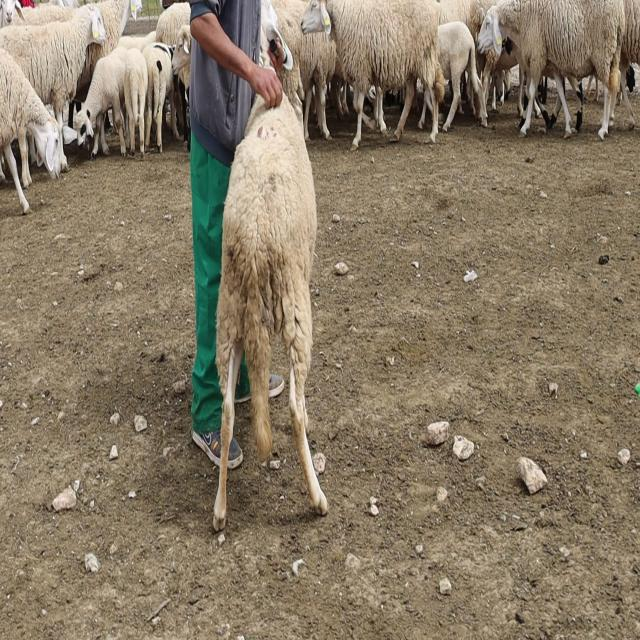Score_1: (212, 98, 328, 530)
